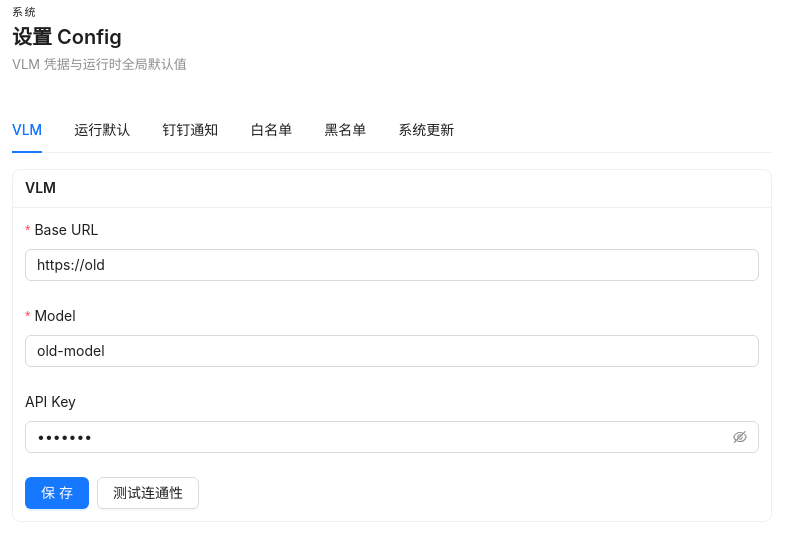
Scenario: ConfigPage › shows the friendly staged Chinese message, not raw JSON, when saving VLM config fails
The width and height of the screenshot is (789, 539).
Click the button "保 存".
click(57, 493)  # box left=25, top=477, right=89, bottom=509
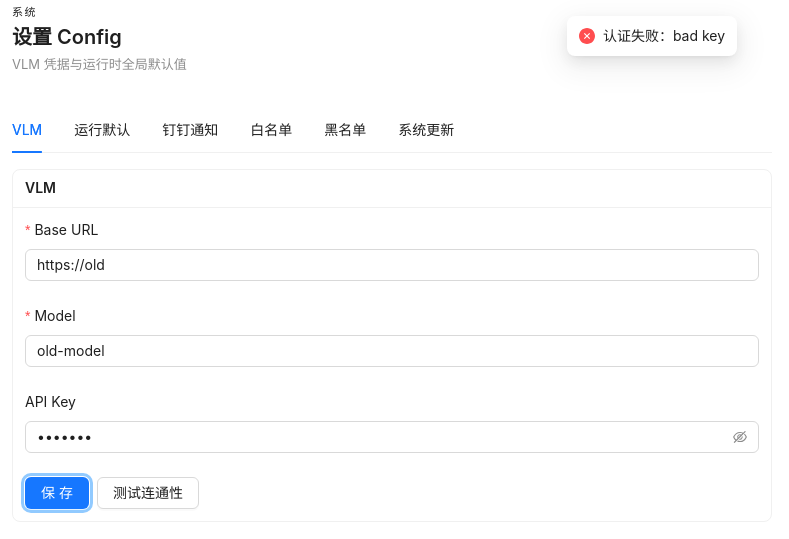
Check: the text "认证失败：bad key" is shown, box left=603, top=25, right=725, bottom=47
